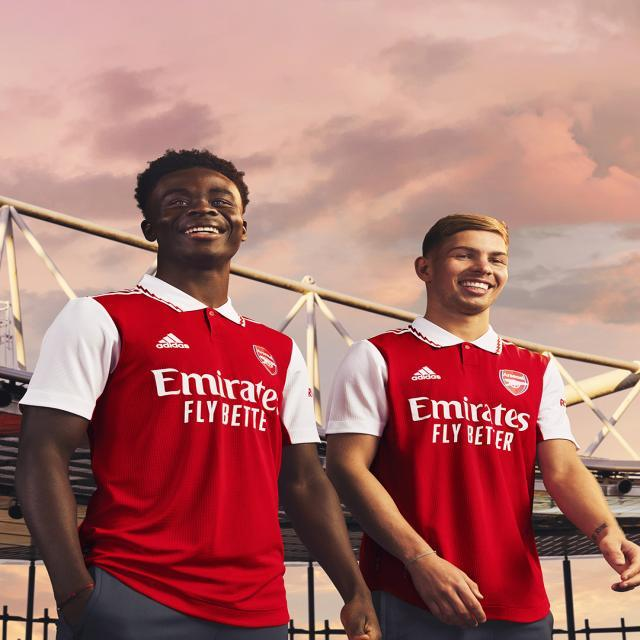Adidas: (154, 331, 192, 352), (410, 364, 442, 382)
Emirates: (149, 365, 282, 414), (405, 396, 532, 432)
